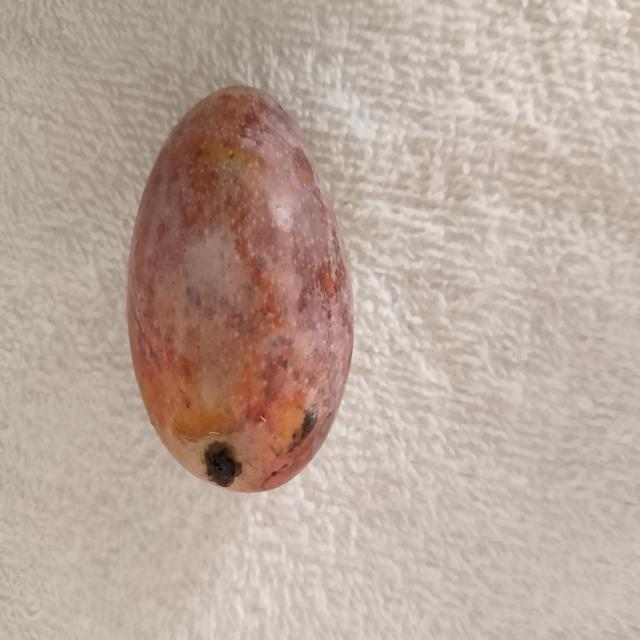mango: (123, 81, 355, 495)
